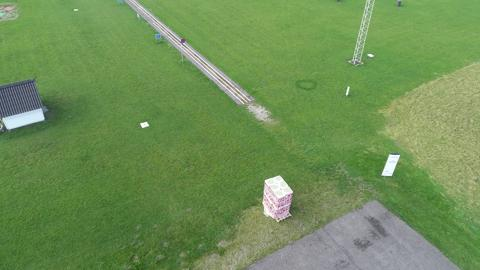RockwoolPallet: (262, 175, 294, 220)
